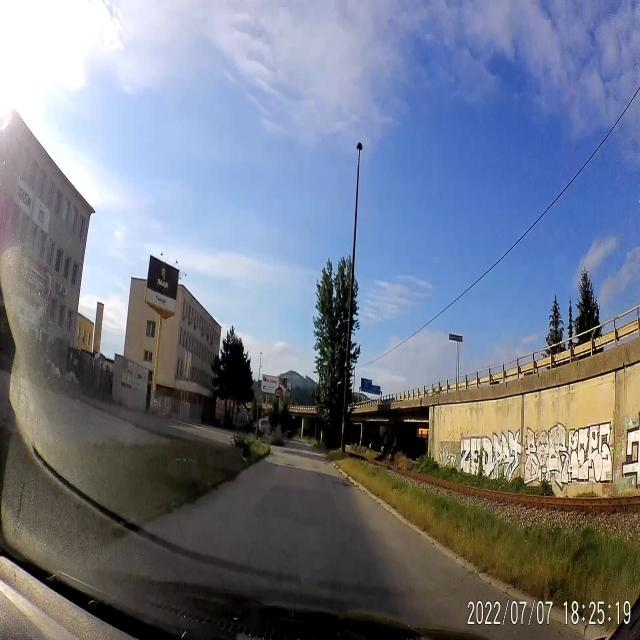Manhole: (328, 470, 354, 494)
